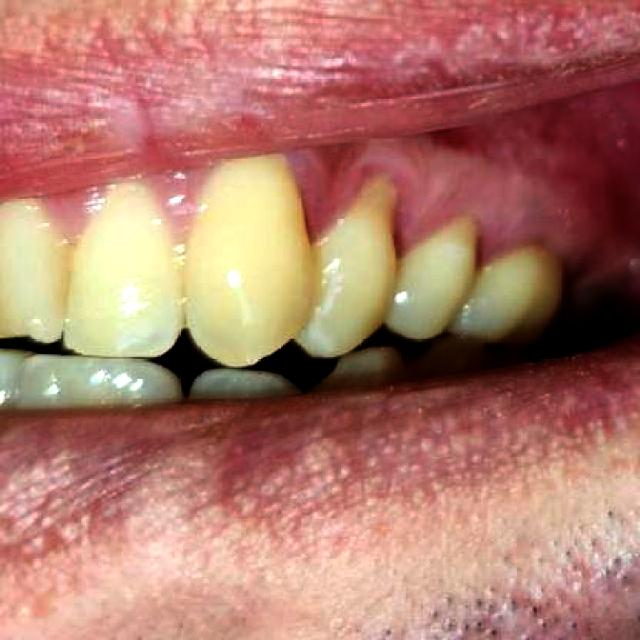Plaque: (299, 146, 436, 255)
